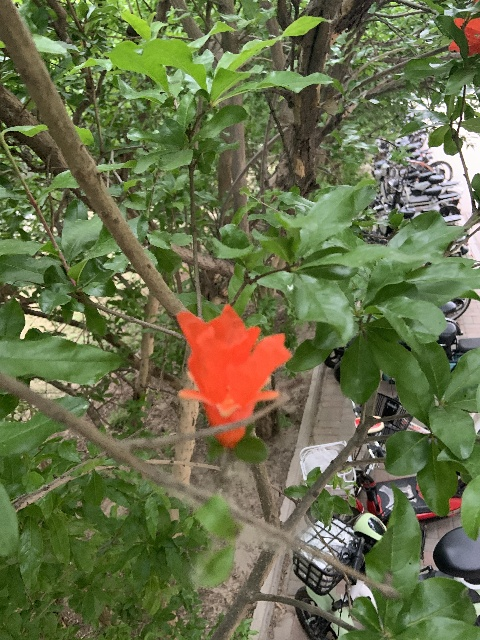flower: (176, 303, 292, 448), (448, 17, 480, 56)
